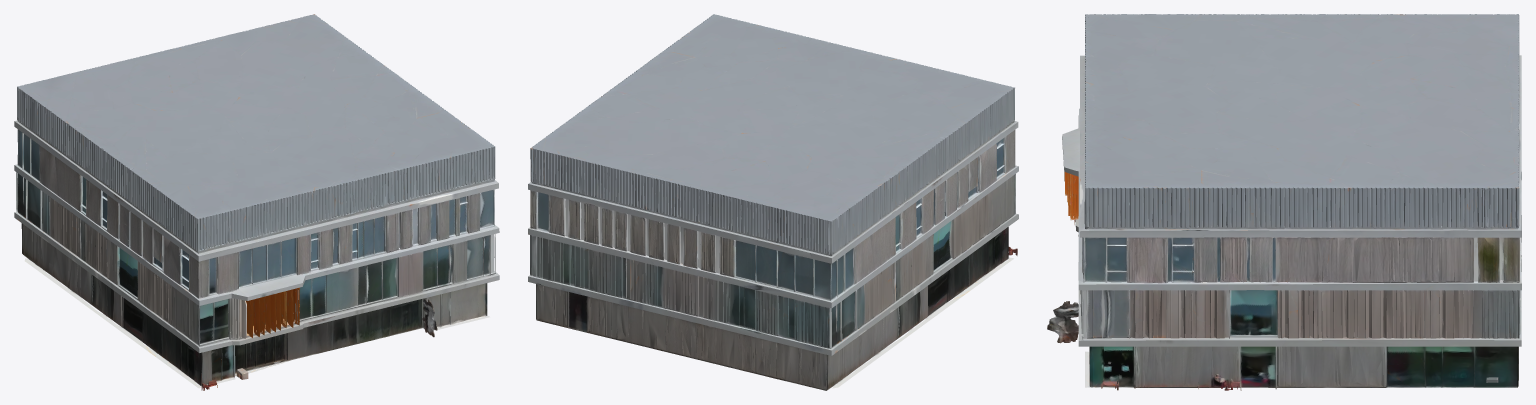
Rendered from demo-westhub-2views.glb.
3 views of the same model, side by side, from view 1: azimuth 30°, elevation 25°; view 2: azimuth 150°, elevation 25°; view 3: azimuth 270°, elevation 25° (orthographic). The views are drawn at different scales.
Visible parts, largest first — view 1: model; view 2: model; view 3: model.
Boxes of the visible parts, x1,y1,x2,y2 form: model: (14, 14, 499, 390); model: (528, 14, 1018, 390); model: (1047, 14, 1521, 390).
Size of the model in its own units: 1.67 by 0.9023 by 1.91.
1 material, 1 textured.
